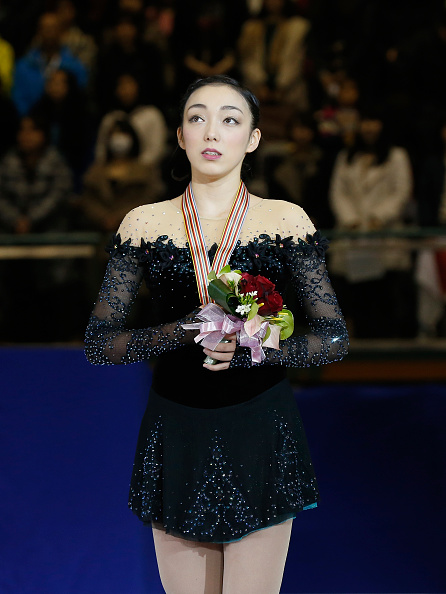em pe: (87, 54, 345, 393)
